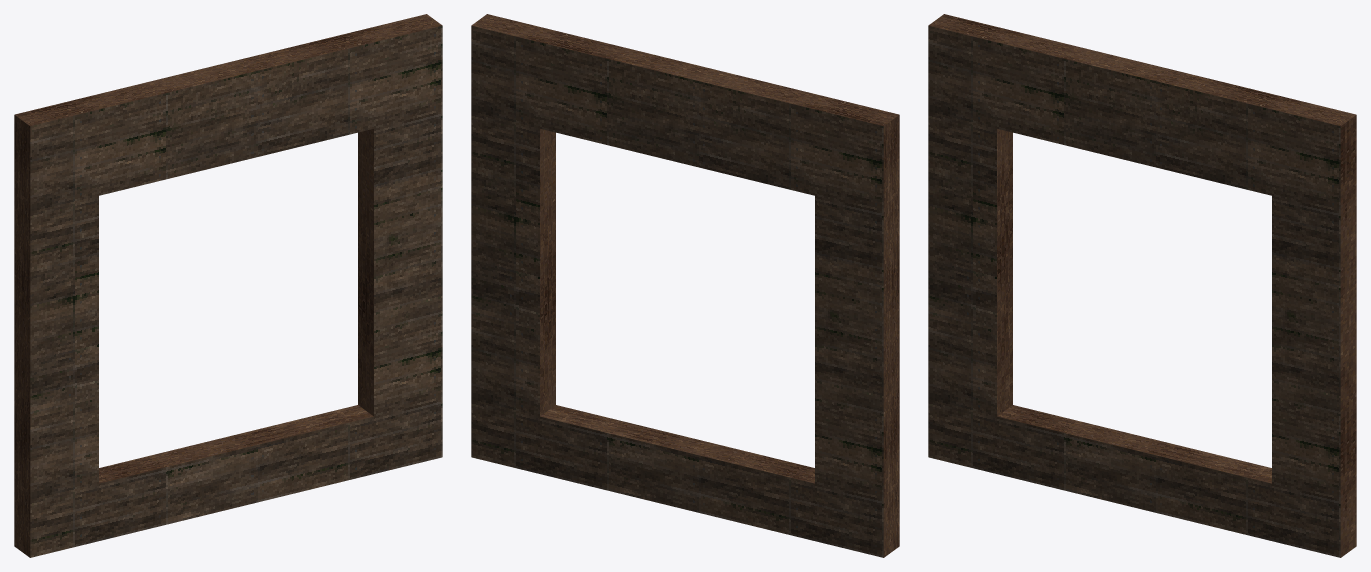
Rendered from window_double_frame.glb.
3 renders of one model, left to right at view 1: azimuth 30°, elevation 25°; view 2: azimuth 150°, elevation 25°; view 3: azimuth 330°, elevation 25°, orthographic.
Visible parts, largest first — view 1: window_double_frame2; view 2: window_double_frame2; view 3: window_double_frame2.
Boxes of the visible parts, x1,y1,x2,y2 form: window_double_frame2: (14, 14, 442, 557); window_double_frame2: (471, 14, 899, 557); window_double_frame2: (928, 14, 1356, 557).
Size of the model in its own units: 3 by 3 by 0.2.
1 material, 1 textured.
